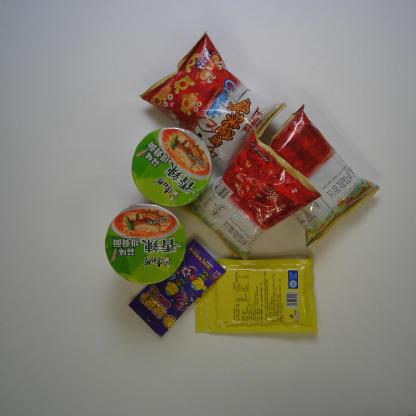Candy: (126, 237, 229, 340)
Dried Fruit: (191, 256, 320, 336)
Instant Noodles: (102, 202, 191, 289), (126, 125, 213, 211)
Puffed Food: (136, 27, 291, 183), (181, 126, 323, 264), (250, 102, 382, 250)
